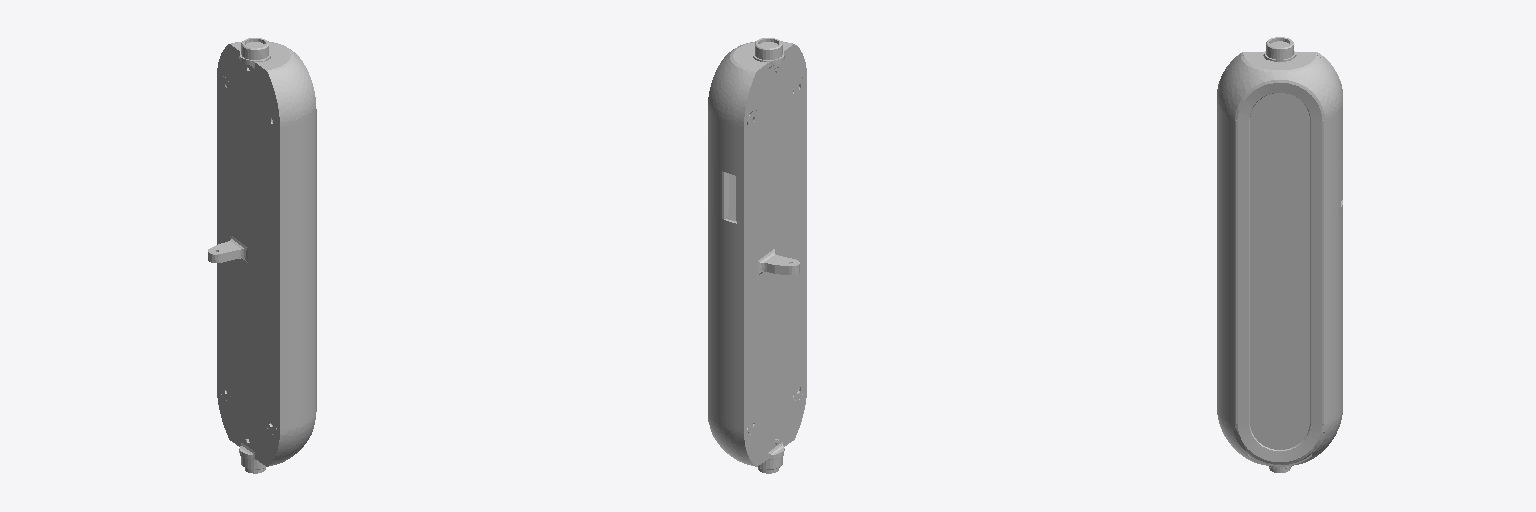
Rendered from sim_ecub_1-1_realsense.obj.
3 renders of one model, left to right at view 1: azimuth 30°, elevation 25°; view 2: azimuth 150°, elevation 25°; view 3: azimuth 270°, elevation 25°, orthographic.
Bounding box in the file's own units: 25.42 × 134 × 36.